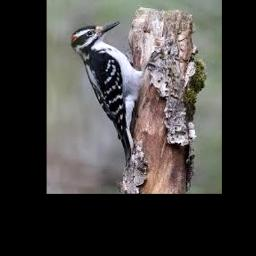Woodpecker: (71, 21, 144, 164)
